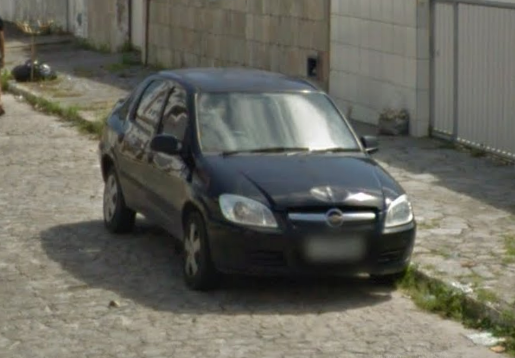car: (95, 63, 415, 296)
